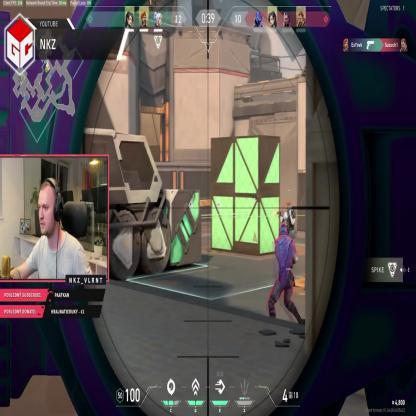enemy: (266, 224, 308, 328)
enemy_head: (279, 224, 288, 236)
